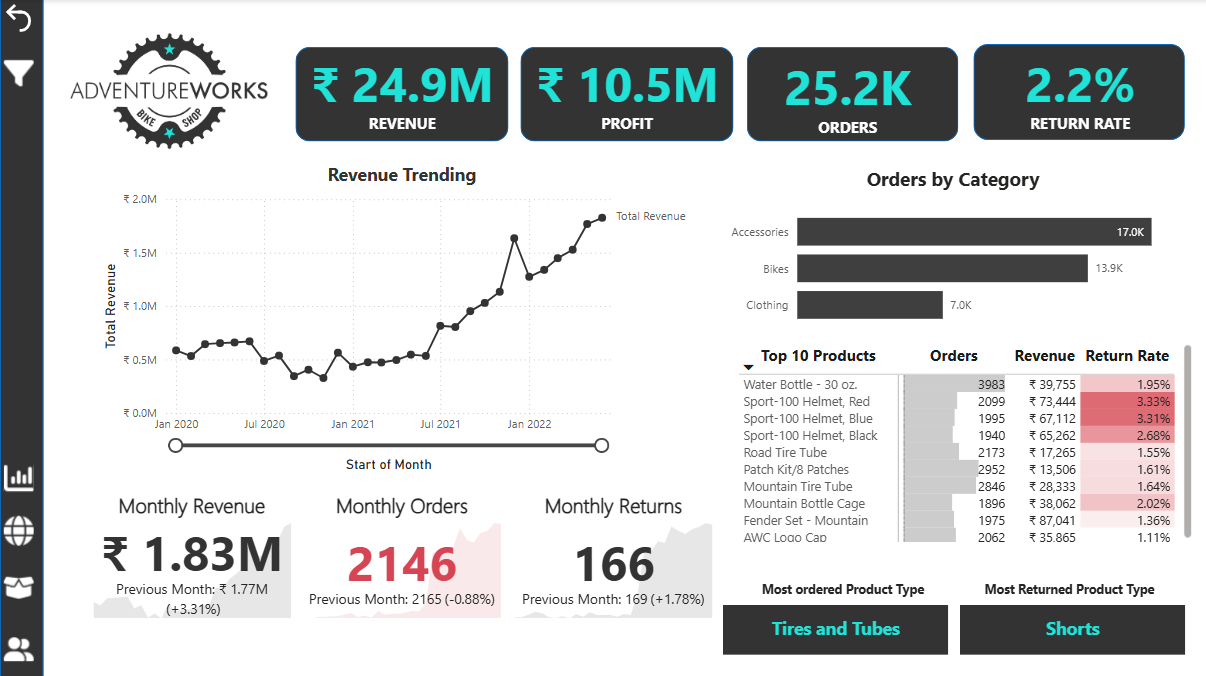

This screenshot's page, from the dashboard's own definition file:
{"tool":"powerbi","page":{"name":"Exec Dashboard","canvas":[1280,720],"ordinal":0},"visuals":[{"type":"image","title":"AW Logo","box":[46.1,0,267,195.5],"z":0},{"type":"actionButton","box":[0,487.9,44.5,39.7],"z":0,"group":"g1"},{"type":"shape","box":[313.1,50.9,225.7,100.1],"z":1000},{"type":"actionButton","box":[0,603.9,44.5,39.7],"z":1000,"group":"g1"},{"type":"shape","title":"Left Nav Background","box":[0,0,46.1,720],"z":2000},{"type":"actionButton","box":[0,669.1,44.5,39.7],"z":2000,"group":"g1"},{"type":"shape","box":[551.5,50.9,225.7,100.1],"z":3000},{"type":"actionButton","box":[0,543.5,44.5,39.7],"z":3000,"group":"g1"},{"type":"shape","box":[791.5,50.9,224.1,100.1],"z":4000},{"type":"shape","box":[1031.5,47.7,224.1,101.7],"z":5000},{"type":"card","fields":{"Values":["Measure Table.Total Profit"]},"box":[530.9,22.3,267,151],"z":6000},{"type":"card","fields":{"Values":["Measure Table.Total Orders"]},"box":[764.5,27,267,149.4],"z":7000},{"type":"card","fields":{"Values":["Measure Table.Total Revenue"]},"box":[292.5,22.3,267,151],"z":8000},{"type":"card","fields":{"Values":["Measure Table.Return Rate"]},"box":[1010.9,22.3,267,151],"z":9000},{"type":"lineChart","title":"Revenue Trending","fields":{"Y":["Measure Table.Total Revenue"],"Category":["Calendar Lookup.Year","Calendar Lookup.Start of Quarter","Calendar Lookup.Start of Month"]},"box":[103.3,173.2,645.3,332.2],"z":10000},{"type":"kpi","title":"Monthly Revenue","fields":{"Indicator":["Measure Table.Total Revenue"],"TrendLine":["Calendar Lookup.Start of Month"],"Goal":["Measure Table.Previous month revenue"]},"box":[93.8,521.3,219.3,139.9],"z":11000},{"type":"kpi","title":"Monthly Orders","fields":{"TrendLine":["Calendar Lookup.Start of Month"],"Indicator":["Measure Table.Total Orders"],"Goal":["Measure Table.Previous Month Orders"]},"box":[316.3,521.3,219.3,139.9],"z":12000},{"type":"kpi","title":"Monthly Returns","fields":{"TrendLine":["Calendar Lookup.Start of Month"],"Indicator":["Measure Table.Total Returns"],"Goal":["Measure Table.Previous Month Returns"]},"box":[540.4,521.3,219.3,139.9],"z":13000},{"type":"barChart","title":"Orders by Category","fields":{"Category":["Product Categories Lookup.CategoryName"],"Y":["Measure Table.Total Orders"]},"box":[764.5,176.4,491.1,184.4],"z":14000},{"type":"pivotTable","fields":{"Rows":["Product Lookup.ProductName"],"Values":["Measure Table.Total Orders","Measure Table.Total Revenue","Measure Table.Return Rate"]},"box":[777.2,360.8,491.1,219.3],"z":15000},{"type":"card","fields":{"Values":["Min(Product Subcategories Lookup.SubcategoryName)"]},"box":[767.3,642.3,238.4,52.5],"z":16000},{"type":"textbox","box":[749.8,610.6,289.3,47.7],"z":17000},{"type":"card","fields":{"Values":["Min(Product Subcategories Lookup.SubcategoryName)"]},"box":[1018.4,642.2,238.4,52.5],"z":18000},{"type":"textbox","box":[1001,610,267,47.7],"z":19000},{"type":"actionButton","box":[0,0,46.1,39.7],"z":20000},{"type":"group","id":"g1","title":"Navigation Buttons","box":[0,487.9,44.5,220.9],"z":21000},{"type":"actionButton","box":[0,58.8,46.1,39.7],"z":22000}]}

Visuals, with their boxes on the page's 1280x720 design canvas (x1, y1, x2, y2). These are canvas units, not pixel positions in the 1206x676 screenshot, which may show the page scaled, cropped or inside an application window:
"AW Logo" image: {"x1": 46, "y1": 0, "x2": 313, "y2": 196}
actionButton: {"x1": 0, "y1": 488, "x2": 44, "y2": 528}
shape: {"x1": 313, "y1": 51, "x2": 539, "y2": 151}
actionButton: {"x1": 0, "y1": 604, "x2": 44, "y2": 644}
"Left Nav Background" shape: {"x1": 0, "y1": 0, "x2": 46, "y2": 720}
actionButton: {"x1": 0, "y1": 669, "x2": 44, "y2": 709}
shape: {"x1": 552, "y1": 51, "x2": 777, "y2": 151}
actionButton: {"x1": 0, "y1": 544, "x2": 44, "y2": 583}
shape: {"x1": 792, "y1": 51, "x2": 1016, "y2": 151}
shape: {"x1": 1032, "y1": 48, "x2": 1256, "y2": 149}
card - Measure Table.Total Profit: {"x1": 531, "y1": 22, "x2": 798, "y2": 173}
card - Measure Table.Total Orders: {"x1": 764, "y1": 27, "x2": 1032, "y2": 176}
card - Measure Table.Total Revenue: {"x1": 292, "y1": 22, "x2": 560, "y2": 173}
card - Measure Table.Return Rate: {"x1": 1011, "y1": 22, "x2": 1278, "y2": 173}
"Revenue Trending" lineChart: {"x1": 103, "y1": 173, "x2": 749, "y2": 505}
"Monthly Revenue" kpi: {"x1": 94, "y1": 521, "x2": 313, "y2": 661}
"Monthly Orders" kpi: {"x1": 316, "y1": 521, "x2": 536, "y2": 661}
"Monthly Returns" kpi: {"x1": 540, "y1": 521, "x2": 760, "y2": 661}
"Orders by Category" barChart: {"x1": 764, "y1": 176, "x2": 1256, "y2": 361}
pivotTable - Product Lookup.ProductName x Measure Table.Total Orders: {"x1": 777, "y1": 361, "x2": 1268, "y2": 580}
card - Min(Product Subcategories Lookup.SubcategoryName): {"x1": 767, "y1": 642, "x2": 1006, "y2": 695}
textbox: {"x1": 750, "y1": 611, "x2": 1039, "y2": 658}
card - Min(Product Subcategories Lookup.SubcategoryName): {"x1": 1018, "y1": 642, "x2": 1257, "y2": 695}
textbox: {"x1": 1001, "y1": 610, "x2": 1268, "y2": 658}
actionButton: {"x1": 0, "y1": 0, "x2": 46, "y2": 40}
"Navigation Buttons" group: {"x1": 0, "y1": 488, "x2": 44, "y2": 709}
actionButton: {"x1": 0, "y1": 59, "x2": 46, "y2": 98}
